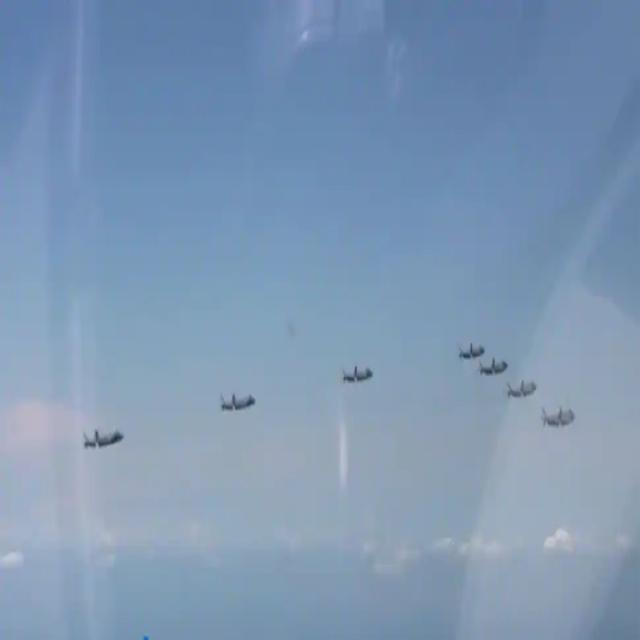MIL_Plane: (82, 428, 126, 449), (539, 405, 576, 429), (219, 392, 256, 412), (473, 357, 509, 377), (504, 378, 538, 398), (457, 340, 485, 363), (342, 364, 373, 384)
